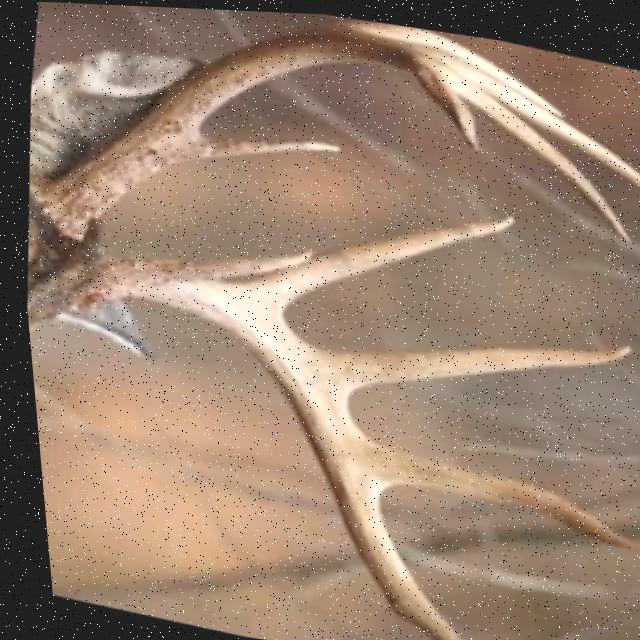L-F: (70, 251, 456, 640)
L-G1: (184, 243, 311, 275)
L-G2: (216, 207, 514, 312)
L-G3: (305, 335, 630, 392)
L-G4: (362, 434, 640, 548)
R-F: (25, 28, 479, 240)
R-G1: (173, 128, 344, 160)
R-G3: (407, 35, 640, 184)
R-G4: (419, 52, 629, 236)
